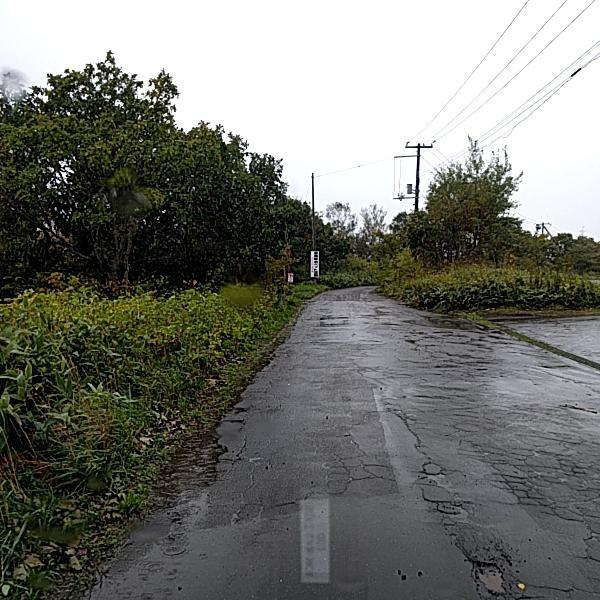pothole: (473, 560, 506, 596)
